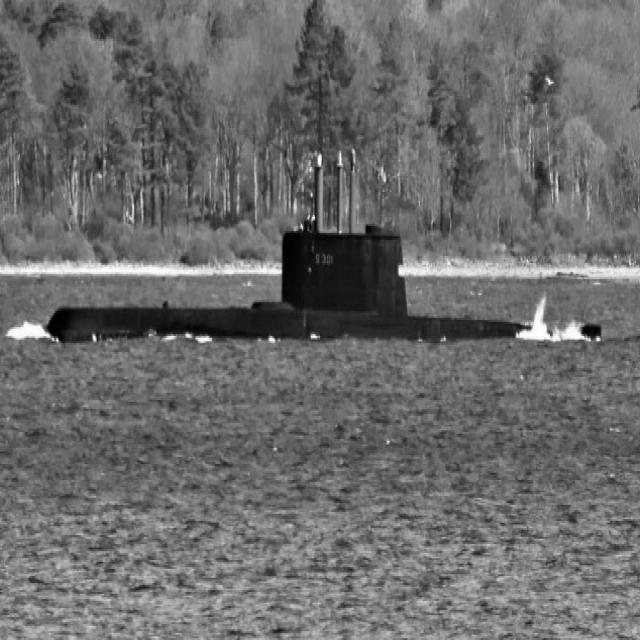submarine: (56, 145, 609, 342)
